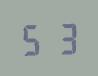five: (19, 21, 48, 56)
three: (49, 19, 78, 54)
